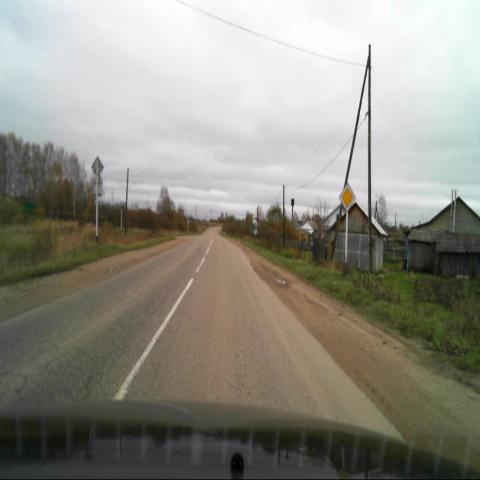2_1: (338, 183, 356, 213)
